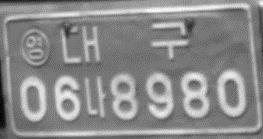0: (215, 68, 247, 118), (19, 74, 48, 122)
6: (52, 74, 82, 122)
8: (180, 71, 210, 120), (110, 72, 139, 122)
9: (143, 72, 176, 119)
나: (80, 74, 109, 120)
대구_D: (58, 19, 191, 65)
영: (20, 28, 52, 67)
